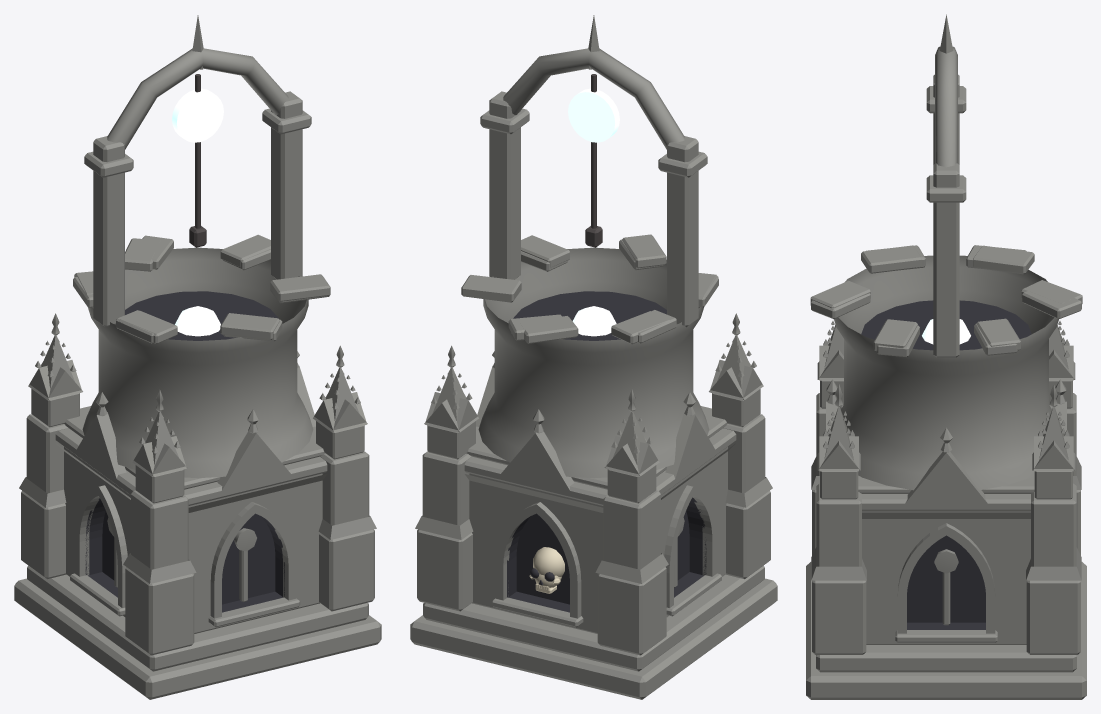
Rendered from tower_well_1.glb.
3 renders of one model, left to right at view 1: azimuth 30°, elevation 25°; view 2: azimuth 150°, elevation 25°; view 3: azimuth 270°, elevation 25°, orthographic. The views are drawn at different scales.
Parts seen in each view (by area): view 1: tower; view 2: tower; view 3: tower.
Boxes of the visible parts, x1,y1,x2,y2 form: tower: (14,15,381,699); tower: (410,15,777,699); tower: (806,14,1086,699).
Size of the model in its own units: 1.7 by 4.2 by 1.7.
